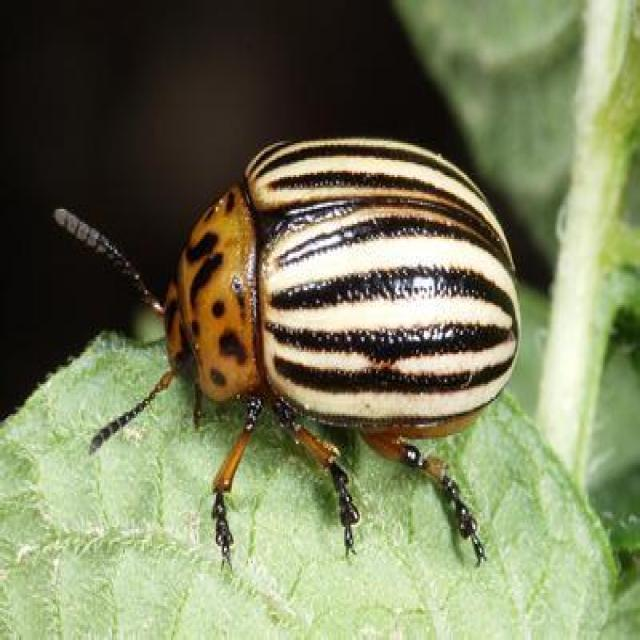ShuCaiHuaBanChong-Grown-: (123, 116, 539, 484)
